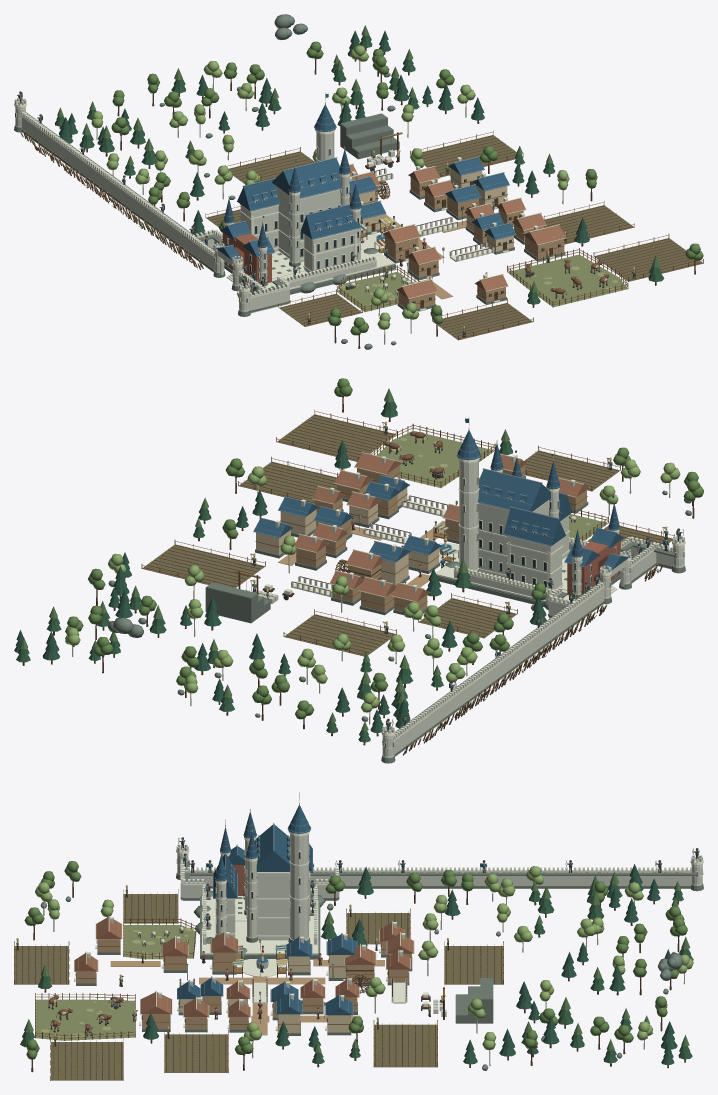
Rendered from royal-castle-v7.glb.
The picture shows the model from 3 angles, top to bottom: view 1: azimuth 30°, elevation 25°; view 2: azimuth 150°, elevation 25°; view 3: azimuth 270°, elevation 25°; orthographic projection. The views are drawn at different scales.
Parts seen in each view (by area): view 1: royal-castle-v7 Alpine white limestone, royal-castle-v7 Packed camp earth, royal-castle-v7 Blue slate roof, royal-castle-v7 Carved ivory limestone, royal-castle-v7 Dark timber beams, royal-castle-v7 Weathered foundation, royal-castle-v7 Broad oak foliage, royal-castle-v7 Soft meadow birch leaves, royal-castle-v7 Soft grazing meadow, royal-castle-v7 Warm village plaster, royal-castle-v7 Terracotta village tiles, royal-castle-v7 Deep fir needles (+10 smaller); view 2: royal-castle-v7 Packed camp earth, royal-castle-v7 Alpine white limestone, royal-castle-v7 Blue slate roof, royal-castle-v7 Dark timber beams, royal-castle-v7 Carved ivory limestone, royal-castle-v7 Weathered foundation, royal-castle-v7 Soft meadow birch leaves, royal-castle-v7 Broad oak foliage, royal-castle-v7 Deep fir needles, royal-castle-v7 Terracotta village tiles, royal-castle-v7 Warm village plaster, royal-castle-v7 Soft grazing meadow (+10 smaller); view 3: royal-castle-v7 Packed camp earth, royal-castle-v7 Alpine white limestone, royal-castle-v7 Carved ivory limestone, royal-castle-v7 Weathered foundation, royal-castle-v7 Blue slate roof, royal-castle-v7 Terracotta village tiles, royal-castle-v7 Dark timber beams, royal-castle-v7 Warm village plaster, royal-castle-v7 Soft grazing meadow, royal-castle-v7 Soft meadow birch leaves, royal-castle-v7 Broad oak foliage, royal-castle-v7 Deep fir needles (+10 smaller).
Part boxes in pixels (left/top/right/bottom): royal-castle-v7 Alpine white limestone: left=14, top=98, right=537, bottom=313; royal-castle-v7 Packed camp earth: left=206, top=135, right=703, bottom=339; royal-castle-v7 Blue slate roof: left=216, top=104, right=515, bottom=263; royal-castle-v7 Carved ivory limestone: left=14, top=100, right=554, bottom=311; royal-castle-v7 Dark timber beams: left=20, top=48, right=703, bottom=348; royal-castle-v7 Weathered foundation: left=14, top=14, right=565, bottom=349; royal-castle-v7 Broad oak foliage: left=111, top=41, right=703, bottom=335; royal-castle-v7 Soft meadow birch leaves: left=91, top=45, right=569, bottom=329; royal-castle-v7 Soft grazing meadow: left=338, top=254, right=627, bottom=311; royal-castle-v7 Warm village plaster: left=375, top=177, right=609, bottom=308; royal-castle-v7 Terracotta village tiles: left=349, top=165, right=566, bottom=298; royal-castle-v7 Deep fir needles: left=59, top=30, right=589, bottom=243; royal-castle-v7 Packed camp earth: left=142, top=414, right=672, bottom=656; royal-castle-v7 Alpine white limestone: left=245, top=457, right=684, bottom=758; royal-castle-v7 Blue slate roof: left=254, top=430, right=628, bottom=580; royal-castle-v7 Dark timber beams: left=22, top=396, right=694, bottom=745; royal-castle-v7 Carved ivory limestone: left=264, top=455, right=685, bottom=757; royal-castle-v7 Weathered foundation: left=65, top=476, right=691, bottom=763; royal-castle-v7 Soft meadow birch leaves: left=65, top=459, right=680, bottom=712; royal-castle-v7 Broad oak foliage: left=65, top=378, right=703, bottom=719; royal-castle-v7 Deep fir needles: left=14, top=440, right=546, bottom=732; royal-castle-v7 Terracotta village tiles: left=294, top=453, right=589, bottom=601; royal-castle-v7 Warm village plaster: left=278, top=434, right=586, bottom=611; royal-castle-v7 Soft grazing meadow: left=376, top=431, right=608, bottom=542; royal-castle-v7 Packed camp earth: left=14, top=894, right=503, bottom=1080; royal-castle-v7 Alpine white limestone: left=87, top=834, right=702, bottom=1016; royal-castle-v7 Carved ivory limestone: left=74, top=831, right=703, bottom=1030; royal-castle-v7 Weathered foundation: left=41, top=853, right=703, bottom=1070; royal-castle-v7 Blue slate roof: left=177, top=805, right=367, bottom=1015; royal-castle-v7 Terracotta village tiles: left=75, top=917, right=413, bottom=1017; royal-castle-v7 Dark timber beams: left=14, top=840, right=698, bottom=1080; royal-castle-v7 Warm village plaster: left=57, top=939, right=411, bottom=1035; royal-castle-v7 Soft grazing meadow: left=35, top=925, right=195, bottom=1040; royal-castle-v7 Soft meadow birch leaves: left=35, top=866, right=693, bottom=1049; royal-castle-v7 Broad oak foliage: left=24, top=861, right=687, bottom=1059; royal-castle-v7 Deep fir needles: left=143, top=864, right=677, bottom=1065.
Bounding box in the file's own units: 53.58 × 19.17 × 75.78.
